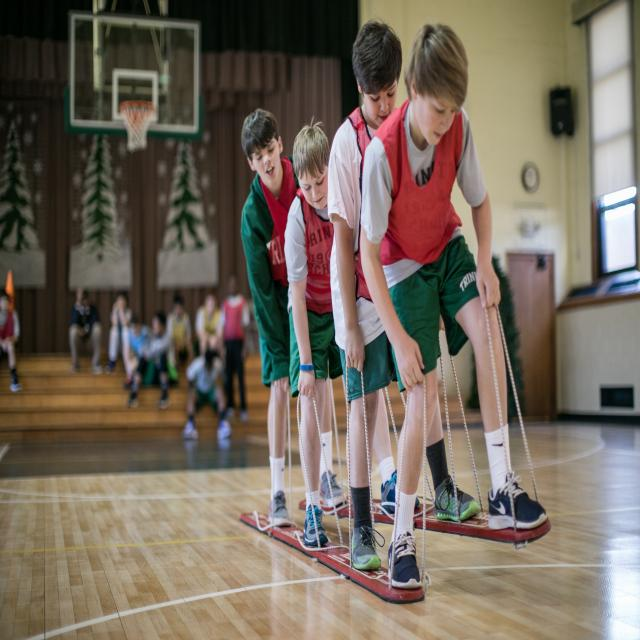body: (355, 18, 553, 594), (324, 19, 488, 575), (281, 121, 421, 554), (240, 106, 302, 528), (216, 272, 252, 426), (182, 343, 234, 441), (125, 312, 171, 411), (66, 283, 105, 378), (106, 286, 137, 376), (194, 290, 226, 370), (165, 291, 193, 379), (122, 311, 152, 390), (0, 290, 23, 393)
